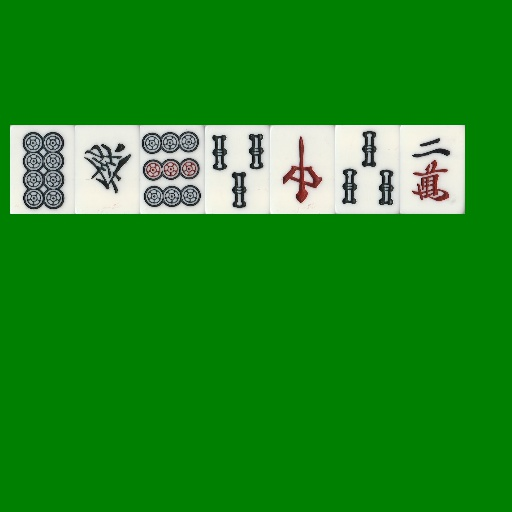2m: (400, 125, 465, 214)
3s: (205, 125, 270, 214), (335, 125, 400, 214)
8p: (10, 125, 75, 214)
9p: (140, 125, 205, 214)
hatsu: (75, 125, 140, 214)
tyun: (270, 125, 335, 214)
